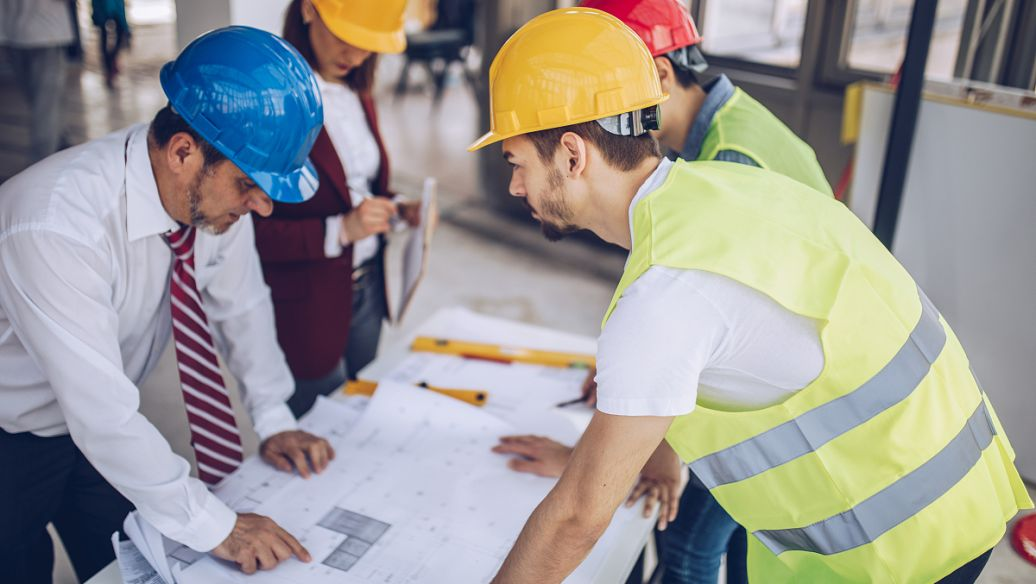safetyhat: (445, 1, 935, 533), (44, 1, 356, 331)
